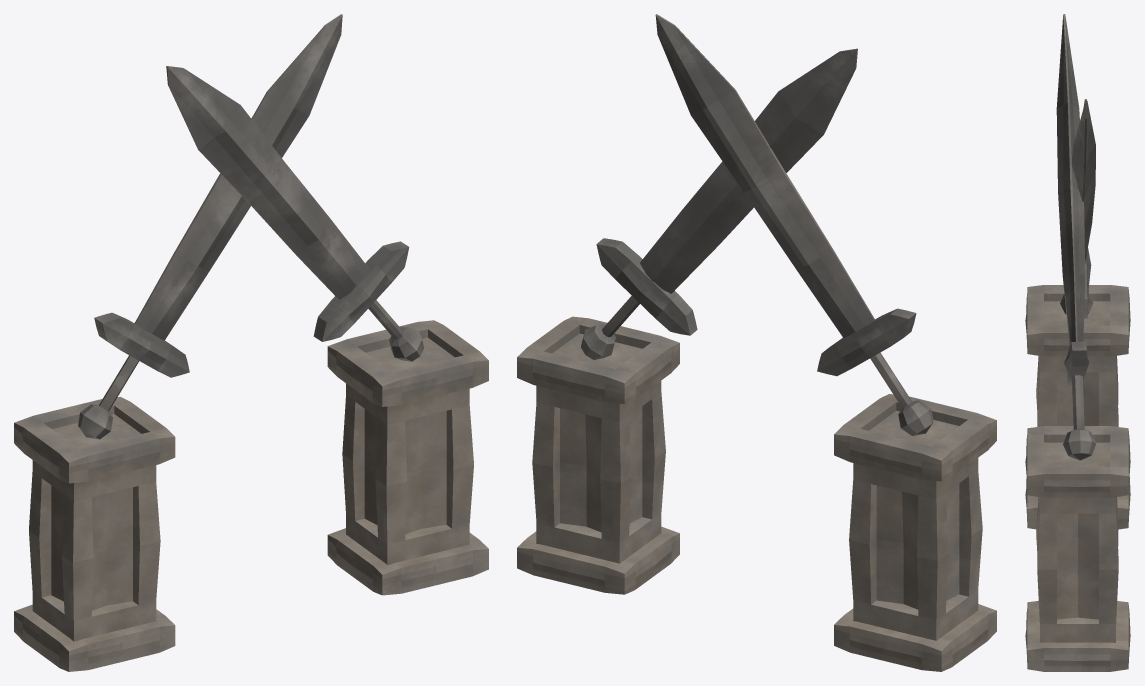
Rendered from swords_gate.fbx.
3 views of the same model, side by side, from view 1: azimuth 30°, elevation 25°; view 2: azimuth 150°, elevation 25°; view 3: azimuth 270°, elevation 25° (orthographic). The views are drawn at different scales.
Parts seen in each view (by area): view 1: Object010; view 2: Object010; view 3: Object010.
Part boxes in pixels (x1,y1,x2,y2): Object010: (14,14,488,671); Object010: (517,14,996,671); Object010: (1025,14,1130,671).
Bounding box in the file's own units: 22.6 × 28.75 × 5.25.
2 materials, 2 textured.
